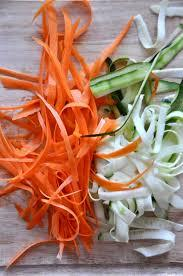Organic: (2, 3, 183, 276)
